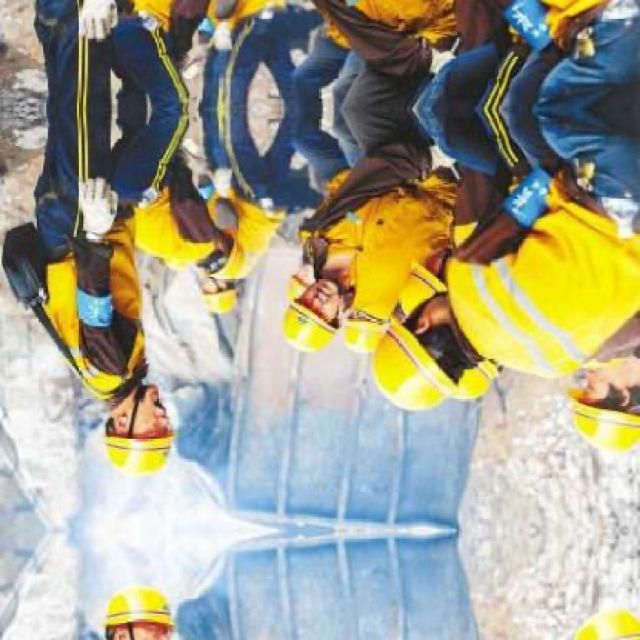con casco: (388, 309, 510, 428), (86, 372, 182, 482), (274, 253, 349, 361)
